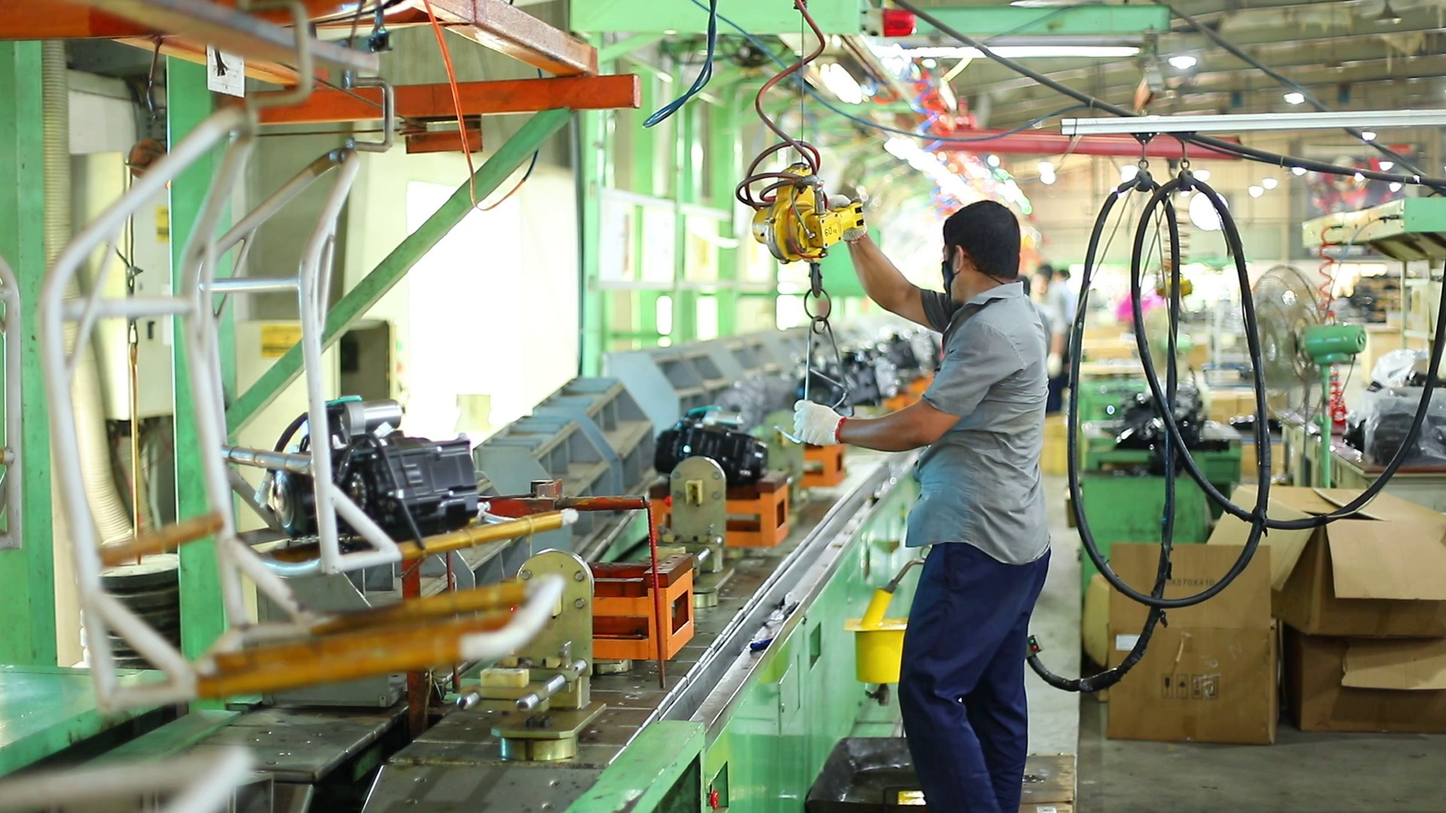mask: (938, 258, 959, 297)
person: (792, 186, 1052, 813), (1022, 263, 1068, 413)
